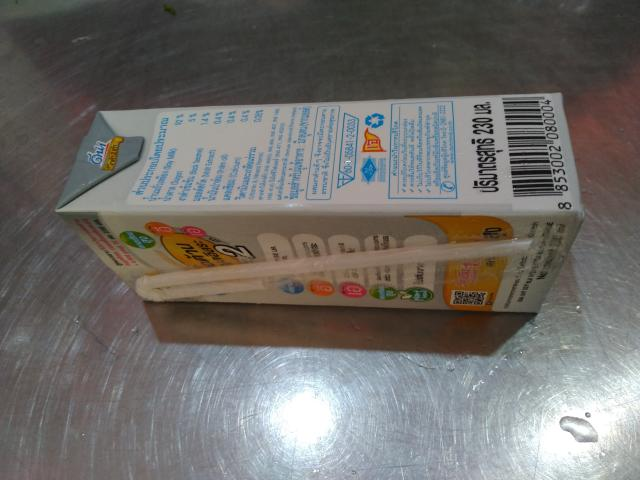drink_box: (50, 92, 606, 348)
